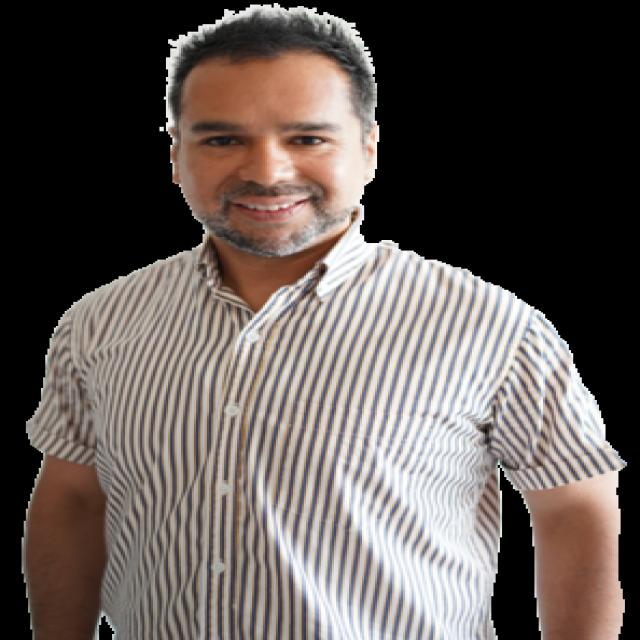adult: (19, 9, 625, 640)
